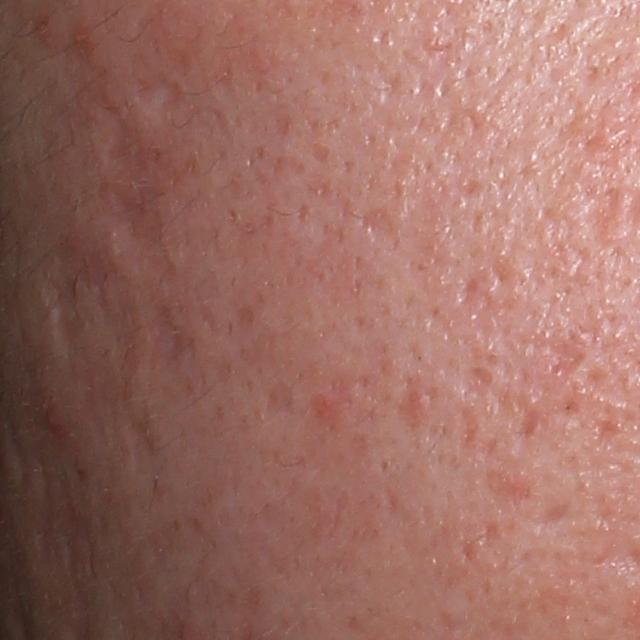atrophic_scar: (84, 91, 204, 392), (136, 63, 198, 120), (42, 274, 78, 362), (257, 375, 300, 432), (541, 335, 589, 383), (359, 205, 398, 249), (524, 496, 572, 530), (461, 365, 496, 401), (454, 404, 478, 455), (455, 273, 480, 315), (521, 403, 543, 442), (480, 516, 503, 548)
papule: (42, 400, 68, 443)
